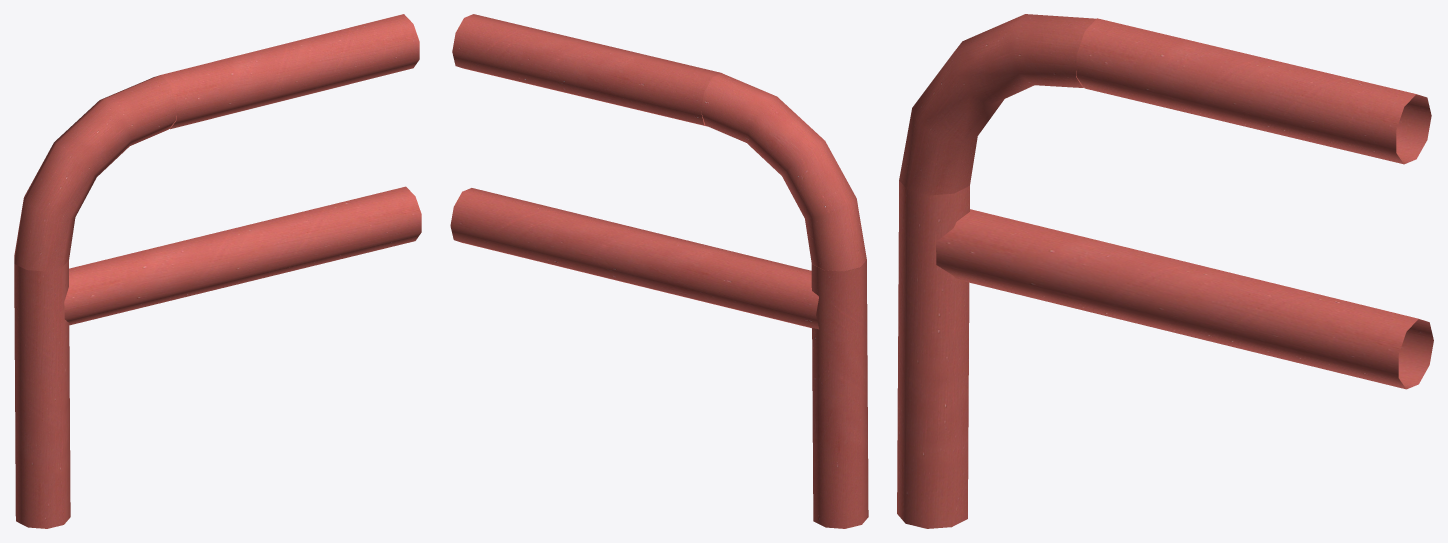
File: CubeBaseFrontBarL.fbx
3 views of the same model, side by side, from view 1: azimuth 30°, elevation 25°; view 2: azimuth 150°, elevation 25°; view 3: azimuth 330°, elevation 25° (orthographic). The views are drawn at different scales.
Visible parts, largest first — view 1: polySurface2, polySurface1; view 2: polySurface2, polySurface1; view 3: polySurface2, polySurface1.
Boxes of the visible parts, x1,y1,x2,y2 form: polySurface2: (14, 14, 421, 325); polySurface1: (14, 260, 70, 528); polySurface2: (450, 14, 866, 329); polySurface1: (811, 260, 868, 528); polySurface2: (899, 14, 1433, 389); polySurface1: (897, 180, 969, 528).
Size of the model in its own units: 0.8041 by 0.8001 by 0.1082.
Materials: 1 (1 with a texture image).
